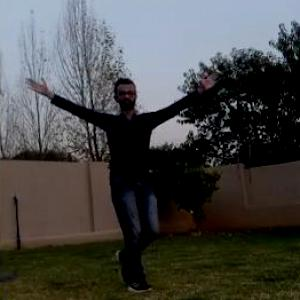takeoff: (26, 78, 214, 293)
